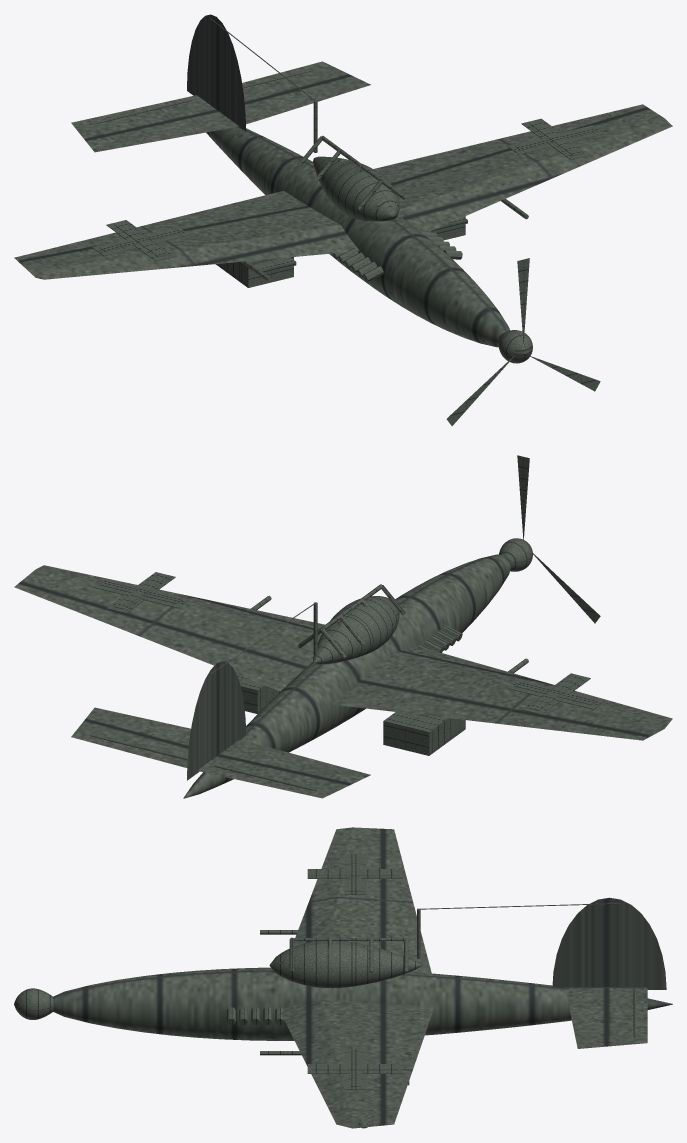
File: wreck.gltf
3 renders of one model, top to bottom at view 1: azimuth 30°, elevation 25°; view 2: azimuth 150°, elevation 25°; view 3: azimuth 270°, elevation 25°, orthographic. The views are drawn at different scales.
Parts seen in each view (by area): view 1: bf109_wreck, bf109_wreck.001; view 2: bf109_wreck, bf109_wreck.001; view 3: bf109_wreck.
Boxes of the visible parts, x1=… form: bf109_wreck: x1=14, y1=14, x2=672, y2=363; bf109_wreck.001: x1=446, y1=258, x2=600, y2=425; bf109_wreck: x1=14, y1=538, x2=672, y2=798; bf109_wreck.001: x1=517, y1=455, x2=600, y2=623; bf109_wreck: x1=14, y1=827, x2=672, y2=1128.
Bounding box in the file's own units: 22 × 5.6 × 20.75.
1 material, 1 textured.
